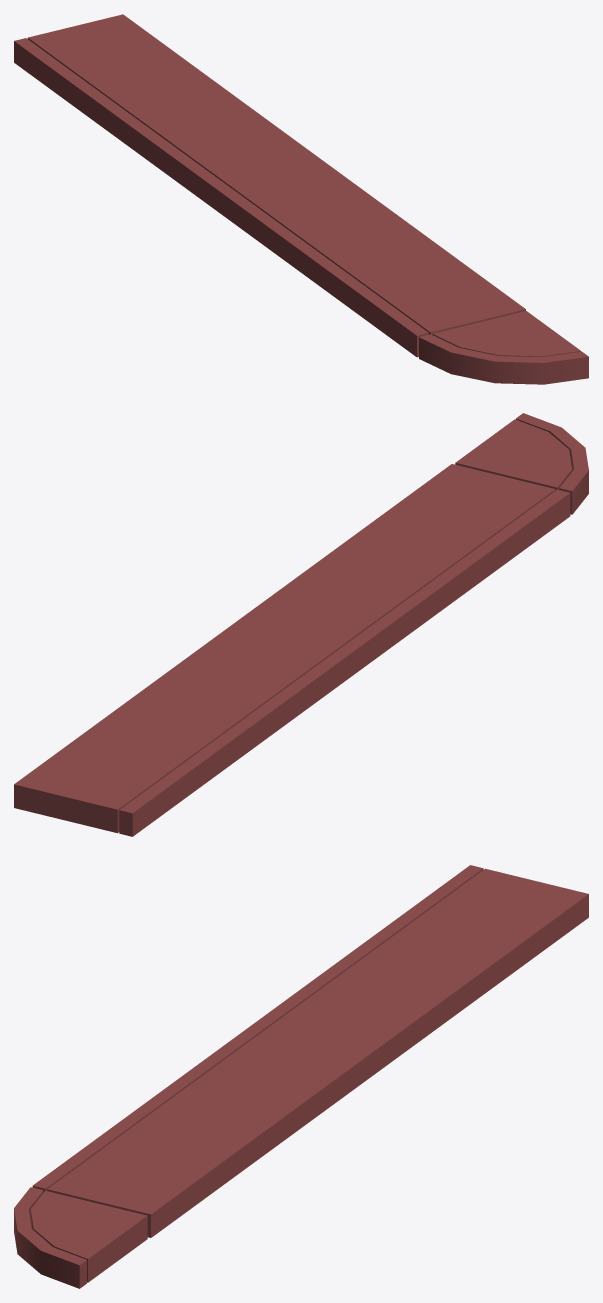
The model's file is WalkWay_01.fbx.
3 views of the same model, one above another, from view 1: azimuth 30°, elevation 25°; view 2: azimuth 150°, elevation 25°; view 3: azimuth 330°, elevation 25° (orthographic). The views are drawn at different scales.
Visible parts, largest first — view 1: Length, Corner; view 2: Length, Corner; view 3: Length, Corner.
Boxes of the visible parts, x1=… form: Length: x1=14, y1=14, x2=525, y2=357; Corner: x1=419, y1=311, x2=588, y2=384; Length: x1=14, y1=464, x2=570, y2=836; Corner: x1=455, y1=413, x2=588, y2=514; Length: x1=32, y1=865, x2=588, y2=1237; Corner: x1=14, y1=1187, x2=147, y2=1288.
Bounding box in the file's own units: 1.06 × 0.2022 × 7.89.
